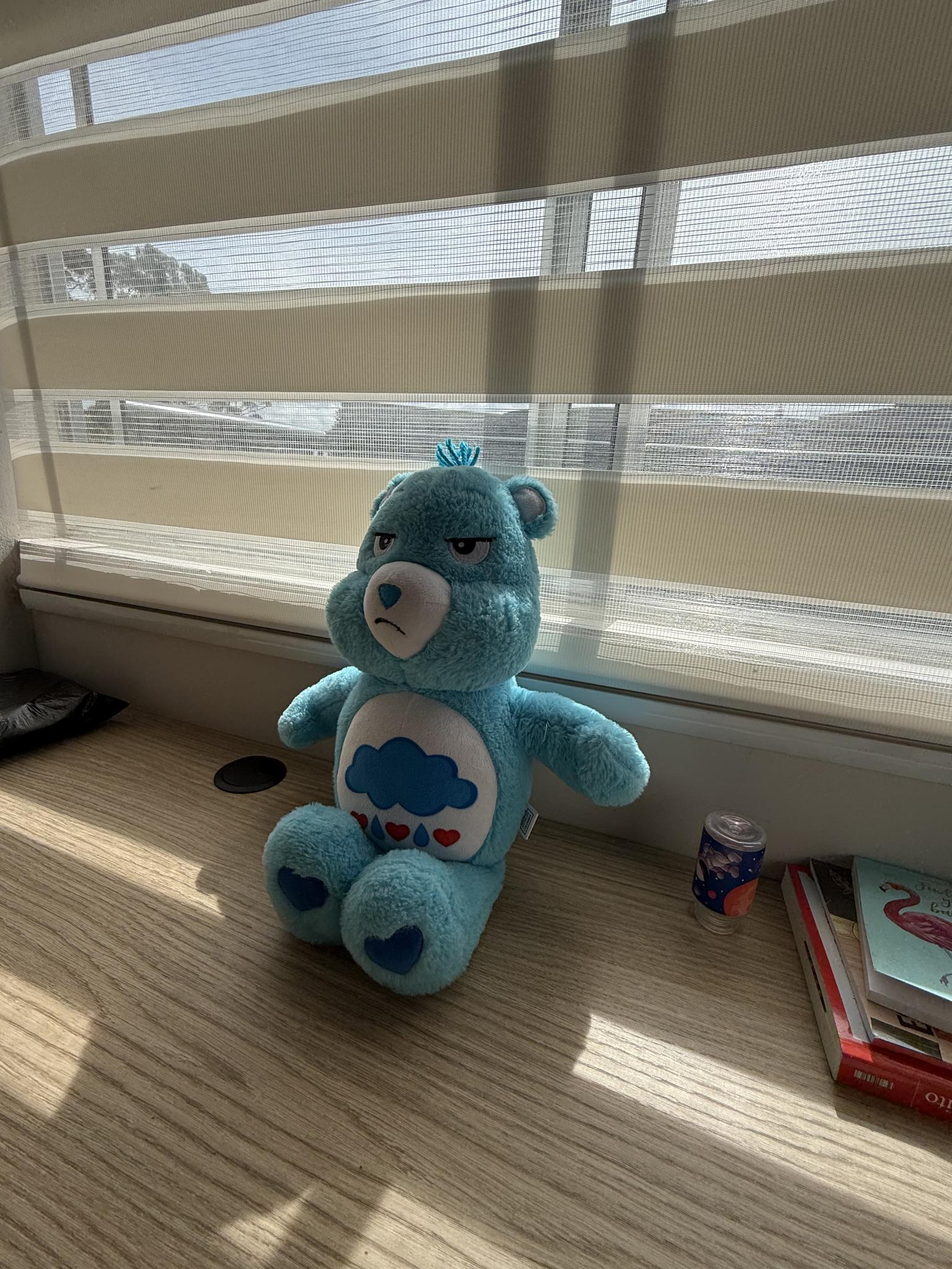peluche_Juan Jose: (262, 440, 652, 1004)
